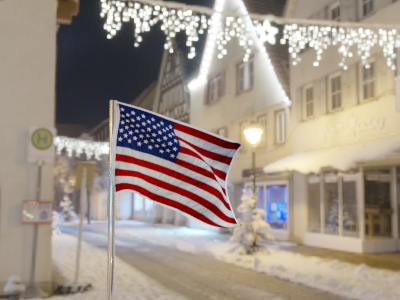America flag: (112, 101, 243, 228)
